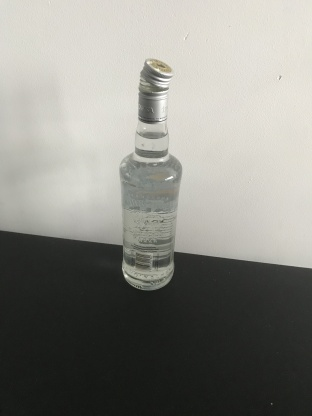nakretka: (136, 56, 174, 125)
